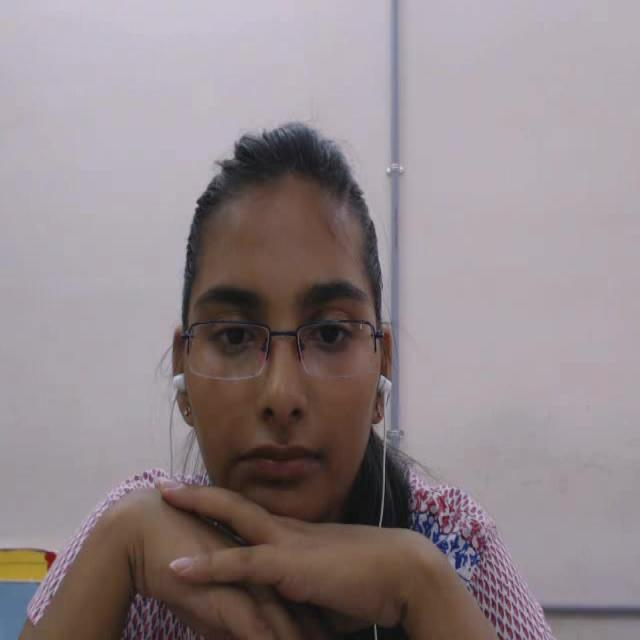Bored: (150, 101, 409, 536)
